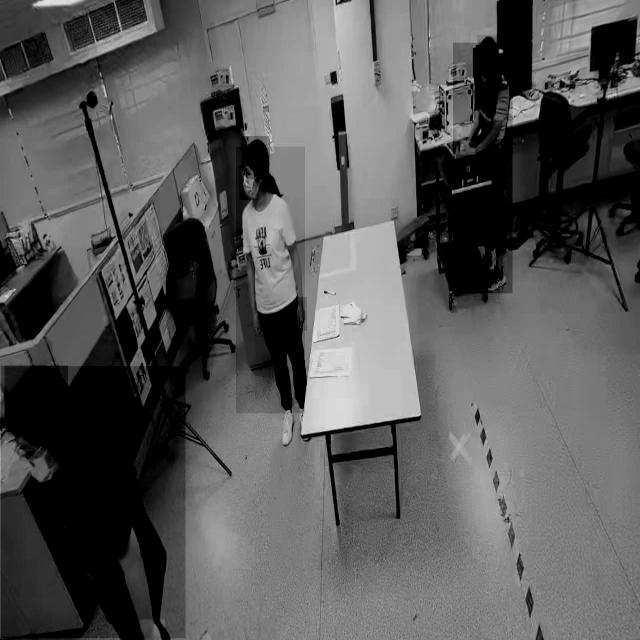face_mask: (21, 441, 59, 495), (240, 165, 262, 200)
hand_noglove: (139, 620, 165, 639), (297, 297, 307, 331), (254, 305, 262, 338), (459, 140, 475, 156)
head_nohelmet: (4, 365, 68, 432), (242, 136, 270, 167), (476, 34, 499, 59)
person: (1, 366, 186, 639), (235, 147, 305, 414), (452, 43, 512, 294)
shoes: (484, 260, 507, 294), (281, 406, 295, 448)
